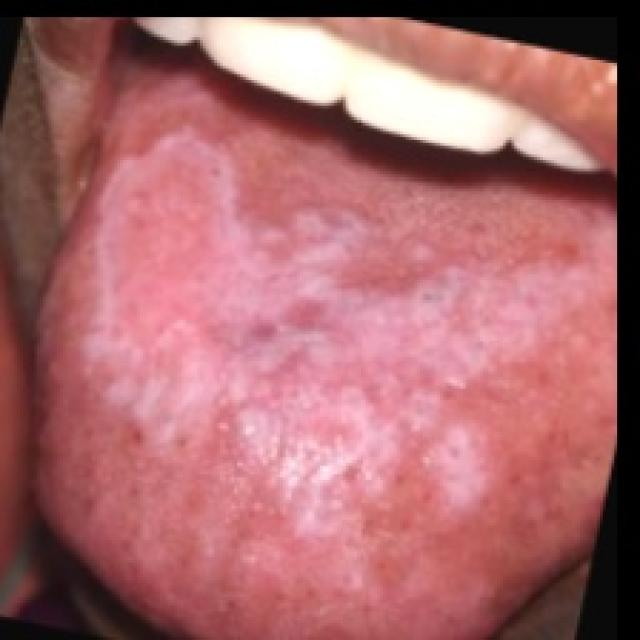leukoplakia-like-detection: (77, 120, 585, 555)
processing_area: (33, 68, 622, 636)
